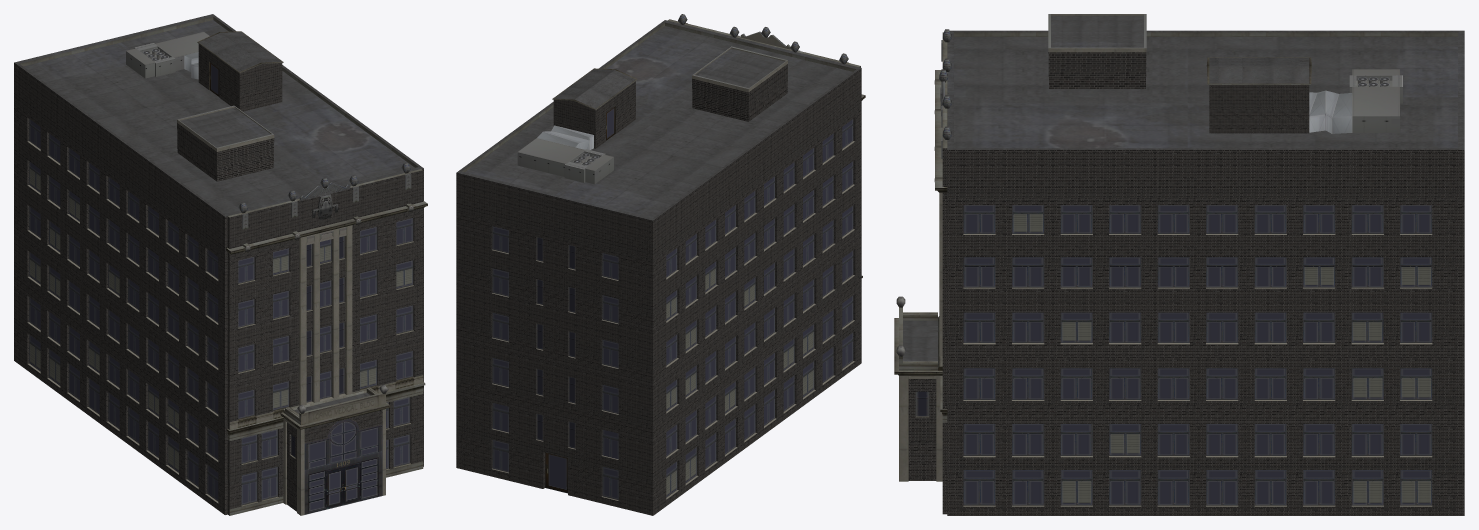
Rendered from loringmedical.obj.
3 views of the same model, side by side, from view 1: azimuth 30°, elevation 25°; view 2: azimuth 150°, elevation 25°; view 3: azimuth 270°, elevation 25° (orthographic). The views are drawn at different scales.
Parts seen in each view (by area): view 1: Cube; view 2: Cube; view 3: Cube.
Boxes of the visible parts, x1,y1,x2,y2 form: Cube: [14, 14, 427, 515]; Cube: [456, 14, 865, 515]; Cube: [894, 14, 1464, 515].
Bounding box in the file's own units: 1348 × 2199 × 2729.
